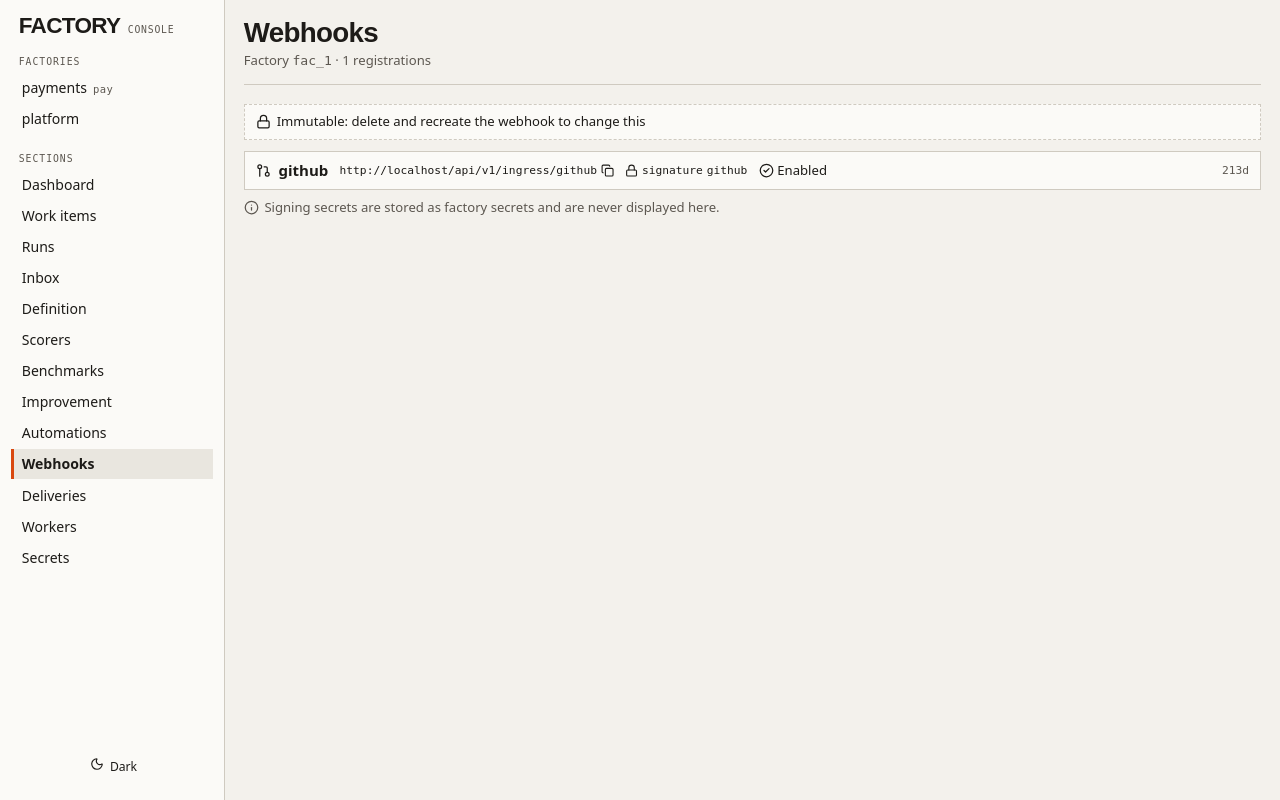
Scenario: webhooks › expands a row to deliveries for that webhook only
Expected: the heading "Webhooks" is shown, [244, 17, 378, 48]
Click the button "github": point(292, 171) [256, 159, 328, 182]
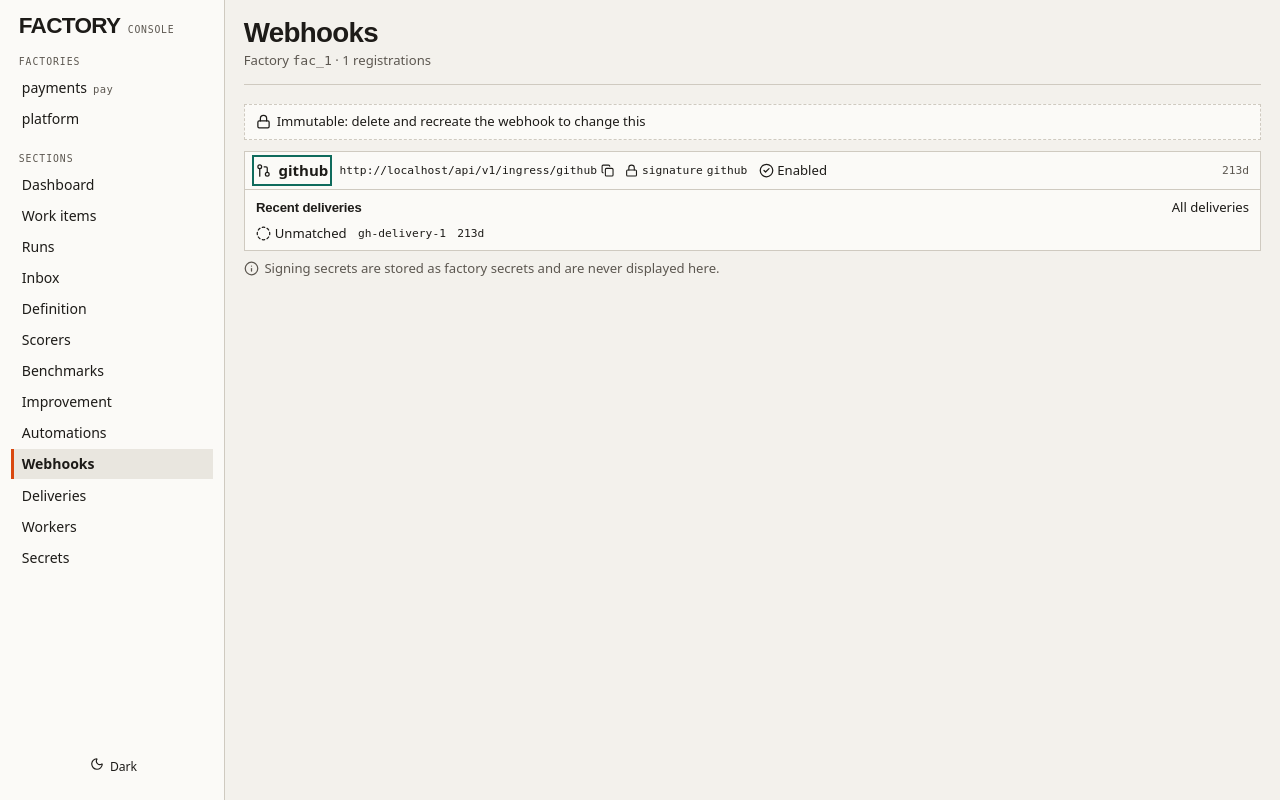
Now the heading "Recent deliveries" is shown, box [256, 200, 362, 215]
Now the text "gh-delivery-1" is shown, box [358, 226, 446, 241]
Now the text "Unmatched" is shown, box [256, 224, 347, 243]
